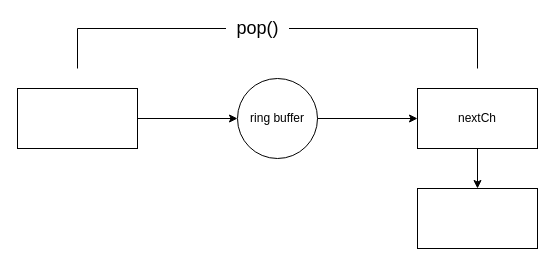
This 555x266 diagram has some shape labels left out. Each missing label, with the centre of its shape:
addCh: the point at 77,118
handler: the point at 477,218
